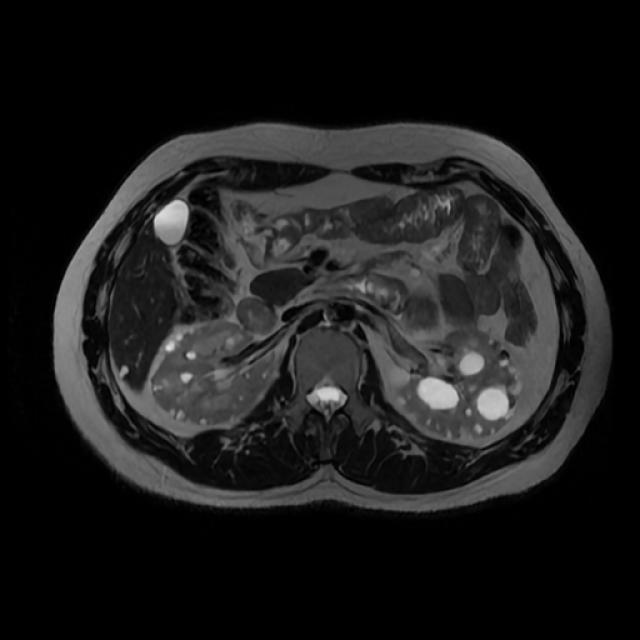sag: (148, 318, 281, 430)
sol: (385, 328, 523, 442)
